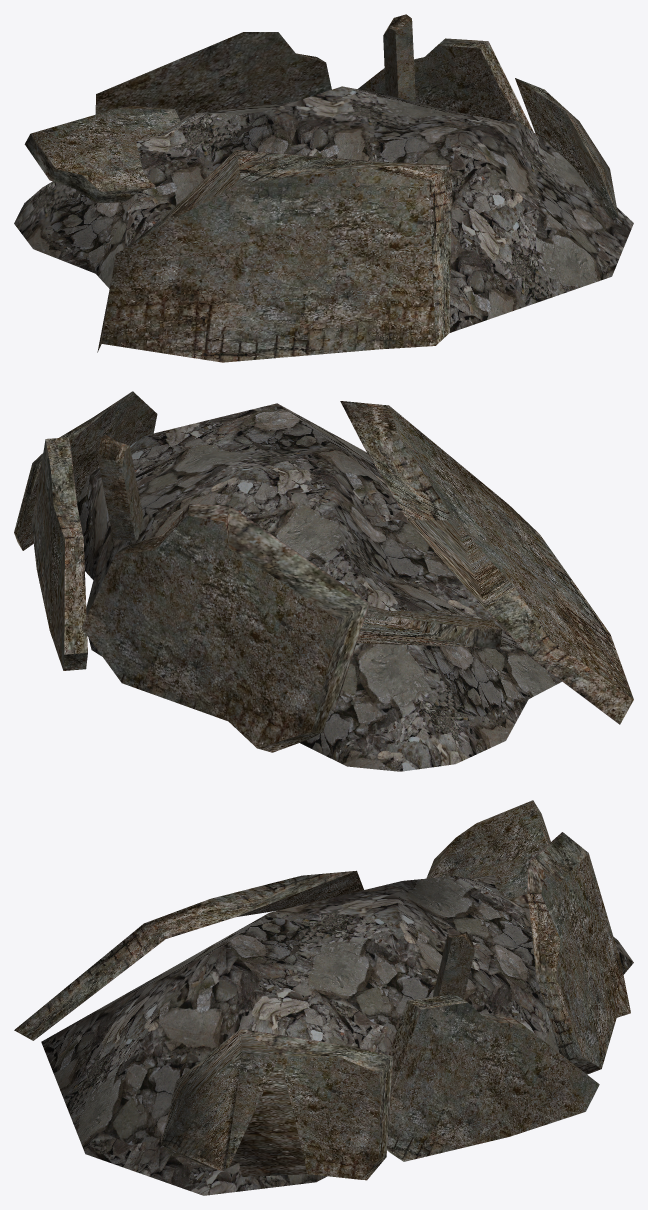
The model's file is Building_Hcz021_lod1.glb.
The picture shows the model from 3 angles, top to bottom: view 1: azimuth 30°, elevation 25°; view 2: azimuth 150°, elevation 25°; view 3: azimuth 270°, elevation 25°; orthographic projection. The views are drawn at different scales.
Parts seen in each view (by area): view 1: xiutz_hcz021_lod1_0; view 2: xiutz_hcz021_lod1_0; view 3: xiutz_hcz021_lod1_0.
Boxes of the visible parts, x1,y1,x2,y2 form: xiutz_hcz021_lod1_0: (14,14,633,362); xiutz_hcz021_lod1_0: (14,391,633,771); xiutz_hcz021_lod1_0: (14,800,633,1195).
Bounding box in the file's own units: 19.93 × 7.65 × 17.95.
Materials: 2 (2 with a texture image).
